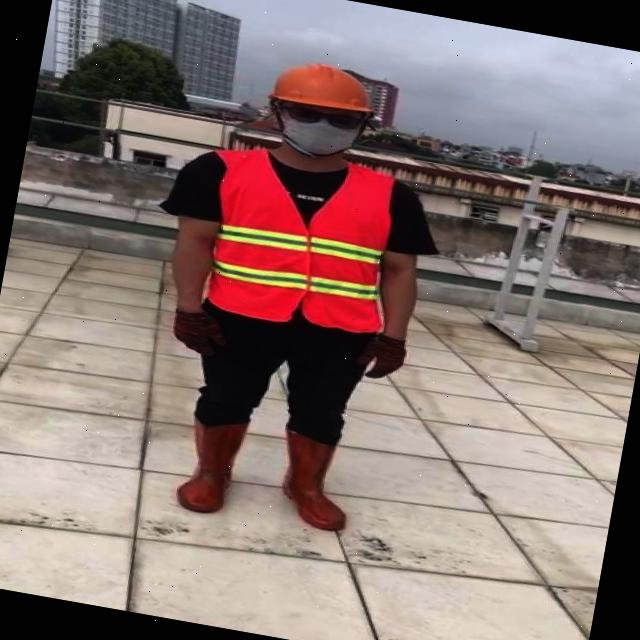vest: (184, 143, 403, 334)
